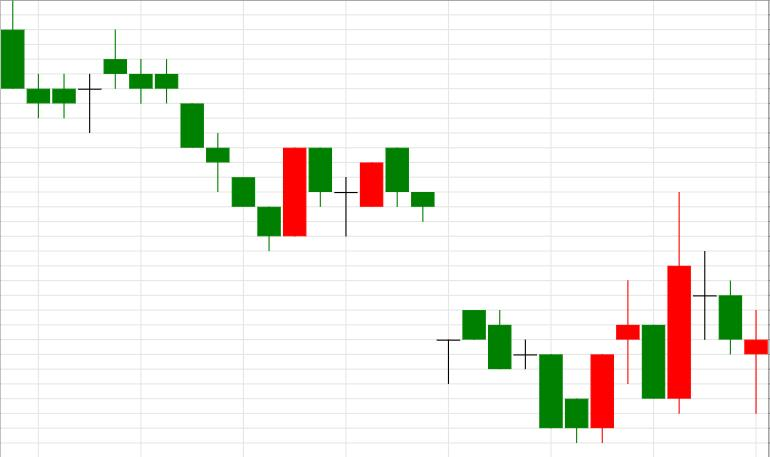bullish_engulfing_rise: (386, 148, 614, 442)
